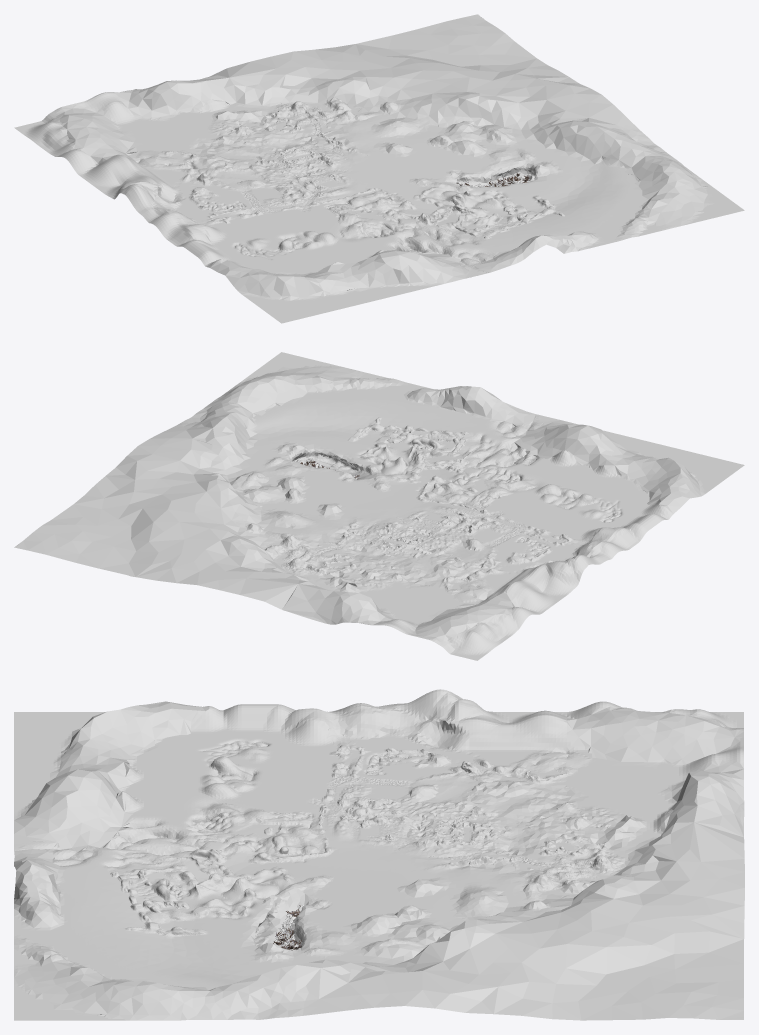
The model's file is 2ALL_LANDSCAPE.fbx.
3 views of the same model, one above another, from view 1: azimuth 30°, elevation 25°; view 2: azimuth 150°, elevation 25°; view 3: azimuth 270°, elevation 25° (orthographic). The views are drawn at different scales.
Visible parts, largest first — view 1: Landscape_main.001, Landscape_graveyard; view 2: Landscape_main.001, Landscape_graveyard; view 3: Landscape_main.001, Landscape_graveyard.
Boxes of the visible parts, left/top/right/bottom form: Landscape_main.001: left=14, top=14, right=744, bottom=323; Landscape_graveyard: left=420, top=145, right=562, bottom=187; Landscape_main.001: left=14, top=352, right=744, bottom=660; Landscape_graveyard: left=258, top=441, right=382, bottom=486; Landscape_main.001: left=14, top=689, right=744, bottom=1020; Landscape_graveyard: left=249, top=877, right=359, bottom=961.
Size of the model in its own units: 14660 by 1300 by 14646.
Materials: 4 (2 with a texture image).
